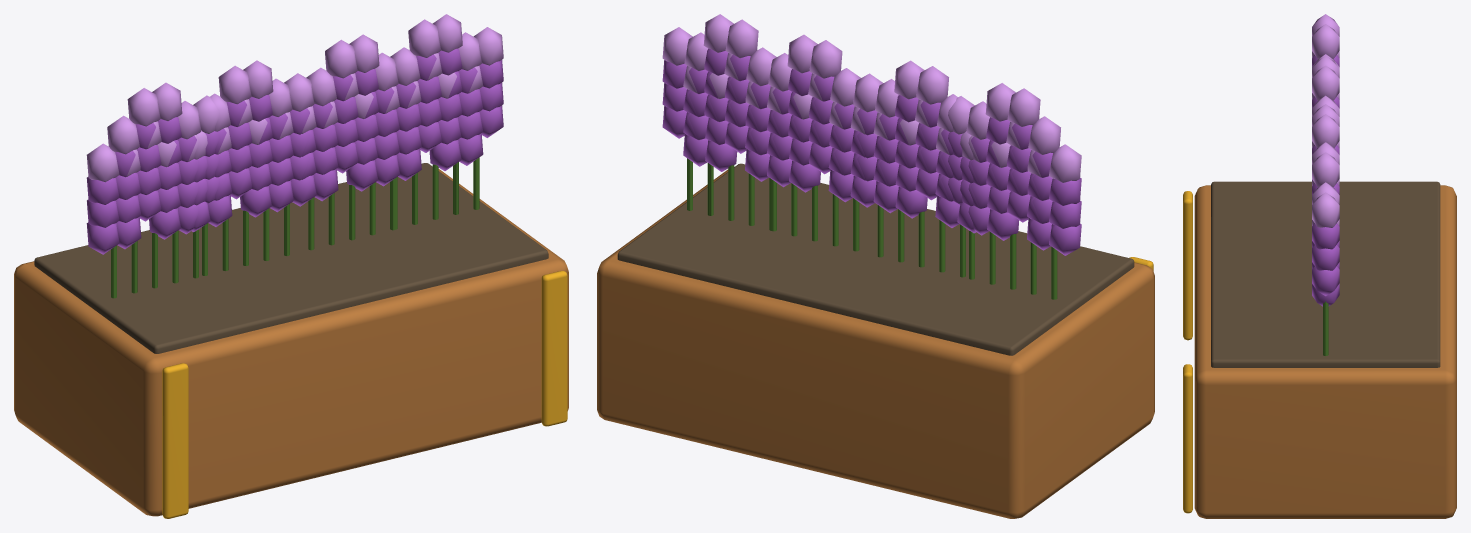
Rendered from Planter_Box.glb.
The picture shows the model from 3 angles, left to right: view 1: azimuth 30°, elevation 25°; view 2: azimuth 150°, elevation 25°; view 3: azimuth 270°, elevation 25°; orthographic projection. The views are drawn at different scales.
Parts seen in each view (by area): view 1: Planter_Box__Planter, Planter_Box__Foliage; view 2: Planter_Box__Planter, Planter_Box__Foliage; view 3: Planter_Box__Planter, Planter_Box__Foliage.
Boxes of the visible parts, x1,y1,x2,y2 form: Planter_Box__Planter: (14, 163, 568, 518); Planter_Box__Foliage: (86, 14, 503, 298); Planter_Box__Planter: (597, 163, 1154, 518); Planter_Box__Foliage: (662, 14, 1081, 299); Planter_Box__Planter: (1183, 181, 1456, 518); Planter_Box__Foliage: (1312, 14, 1339, 355).
Size of the model in its own units: 2.8 by 2.32 by 1.67.
